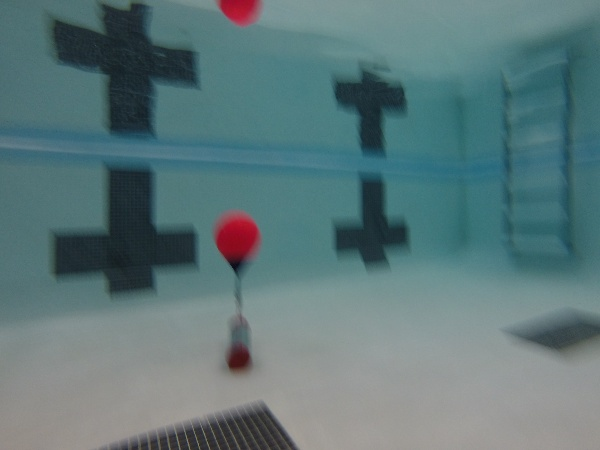buoy_red: (212, 210, 260, 270)
